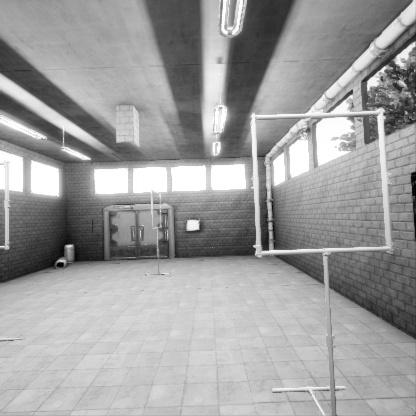gate: (256, 165, 408, 313), (151, 188, 161, 227)
